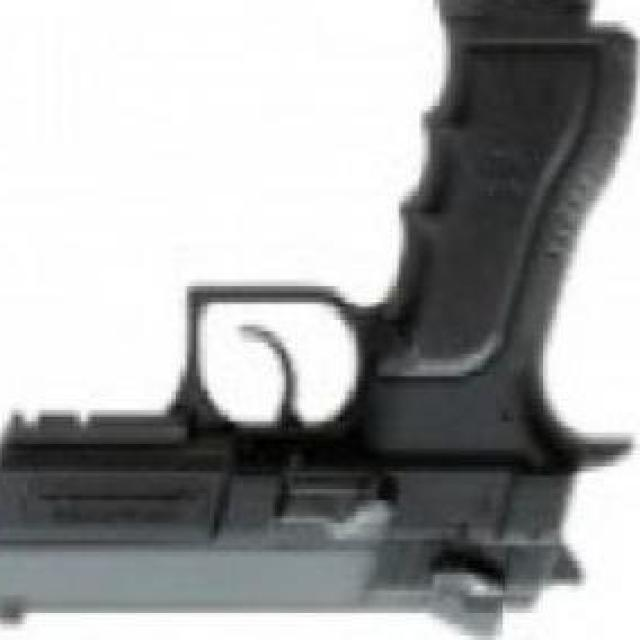pistol: (0, 0, 638, 631)
